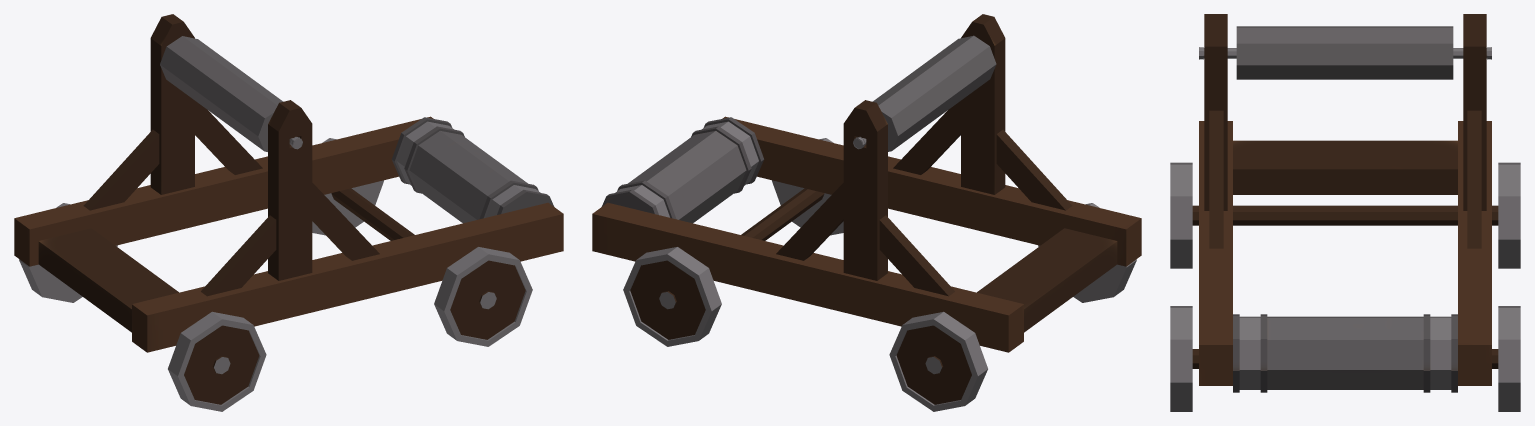
Rendered from catapulta_base.obj.
3 renders of one model, left to right at view 1: azimuth 30°, elevation 25°; view 2: azimuth 150°, elevation 25°; view 3: azimuth 270°, elevation 25°, orthographic. The views are drawn at different scales.
Visible parts, largest first — view 1: catapult_Itemandenemy; view 2: catapult_Itemandenemy; view 3: catapult_Itemandenemy.
Part boxes in pixels (left/top/right/bottom): catapult_Itemandenemy: left=14, top=14, right=563, bottom=411; catapult_Itemandenemy: left=592, top=14, right=1141, bottom=411; catapult_Itemandenemy: left=1170, top=14, right=1520, bottom=411.
Size of the model in its own units: 8.41 by 5.07 by 5.41.
1 material, 1 textured.
